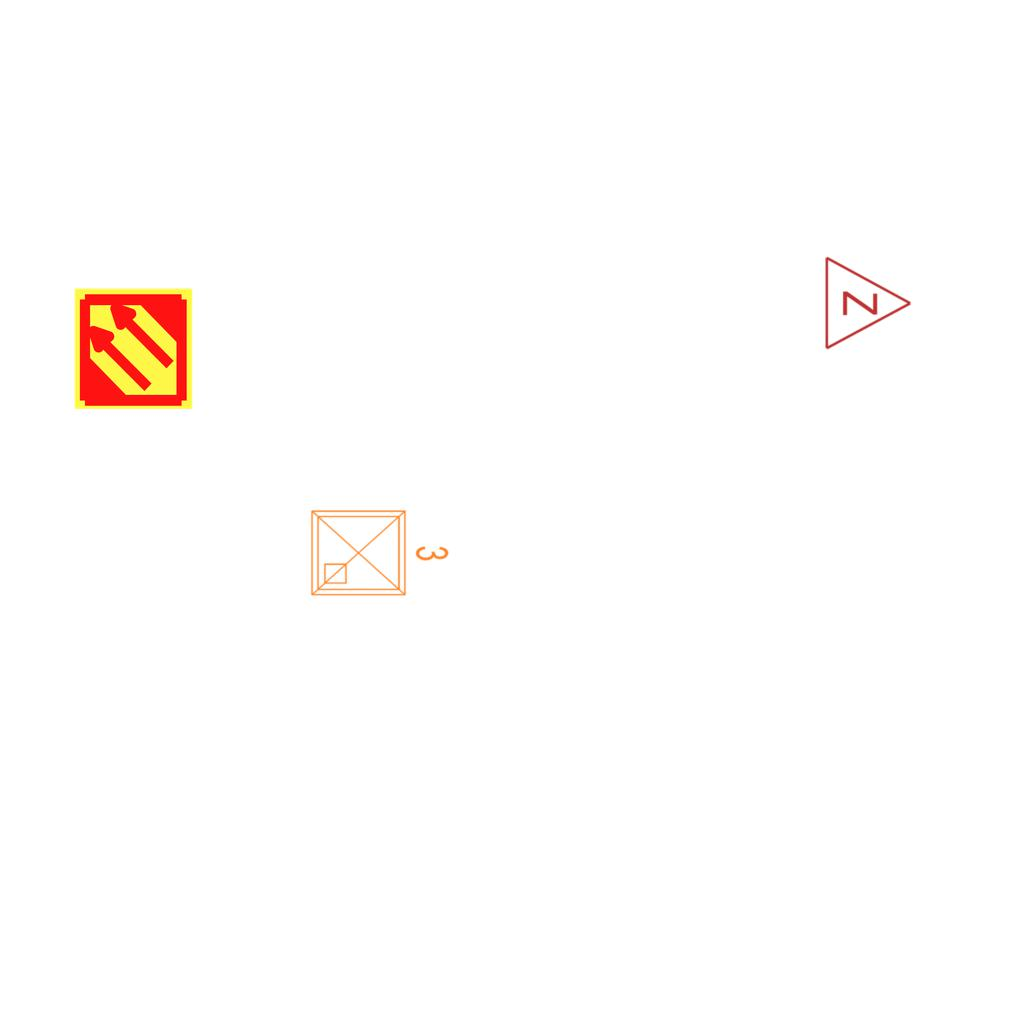ASR_Ansaugrauchmelder: (71, 286, 196, 411)
Einbaudownlights_LED_Konferenzraeume: (304, 499, 454, 603)
Zimmersignalleuchte: (818, 253, 918, 351)
